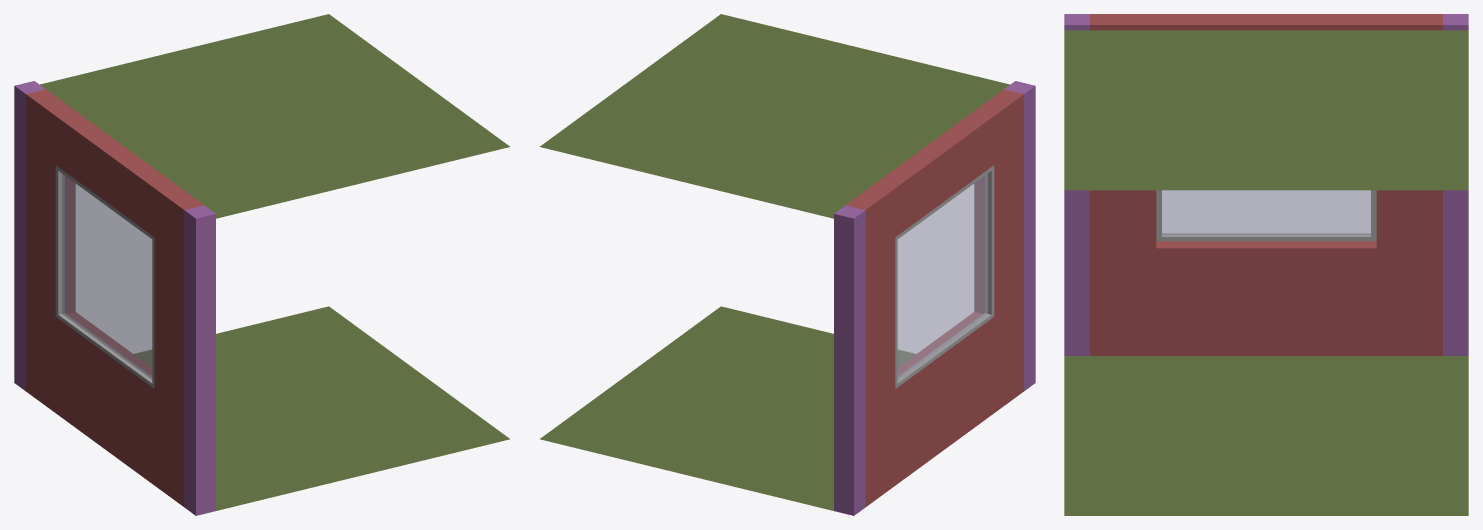
The model's file is building_wall_window.fbx.
3 renders of one model, left to right at view 1: azimuth 30°, elevation 25°; view 2: azimuth 150°, elevation 25°; view 3: azimuth 270°, elevation 25°, orthographic. The views are drawn at different scales.
Visible parts, largest first — view 1: building_wall_window1; view 2: building_wall_window1; view 3: building_wall_window1.
Part boxes in pixels (x1,y1,x2,y2): building_wall_window1: [14, 14, 509, 515]; building_wall_window1: [540, 14, 1035, 515]; building_wall_window1: [1064, 14, 1468, 515].
Size of the model in its own units: 1 by 0.9033 by 1.
